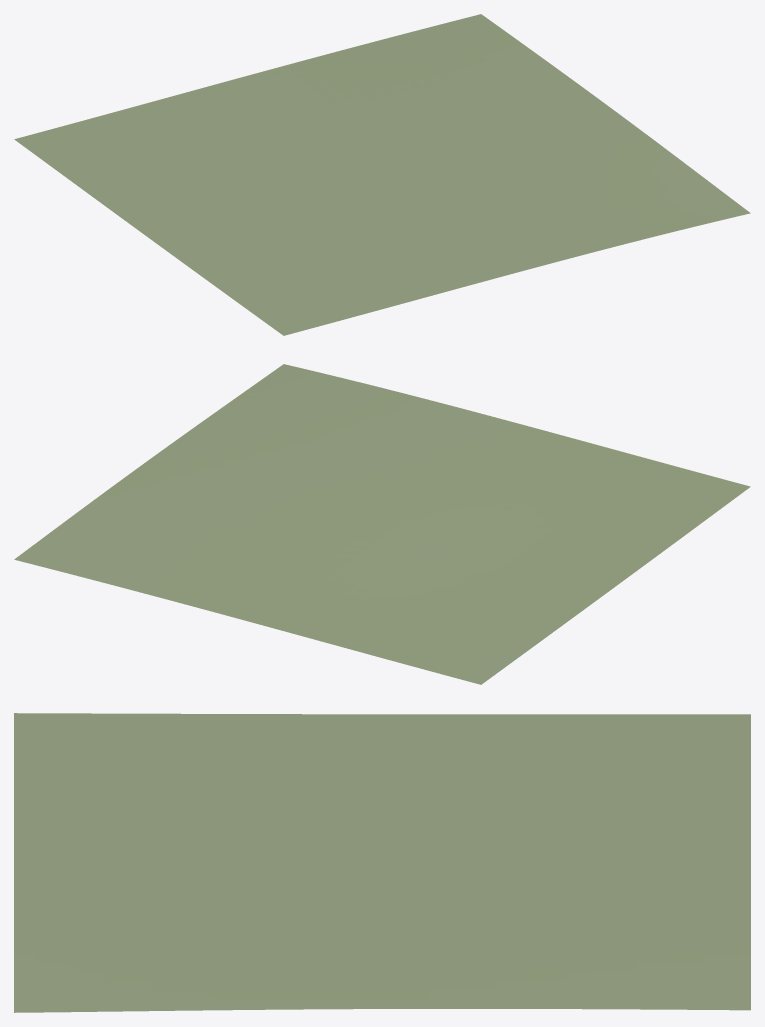
File: desert-20-4.glb
3 views of the same model, one above another, from view 1: azimuth 30°, elevation 25°; view 2: azimuth 150°, elevation 25°; view 3: azimuth 270°, elevation 25° (orthographic). The views are drawn at different scales.
Visible parts, largest first — view 1: desert-20-4; view 2: desert-20-4; view 3: desert-20-4.
Part boxes in pixels (x1,y1,x2,y2): desert-20-4: [14, 14, 750, 335]; desert-20-4: [14, 364, 750, 684]; desert-20-4: [14, 713, 750, 1012].
Bounding box in the file's own units: 512 × 13.02 × 512.
